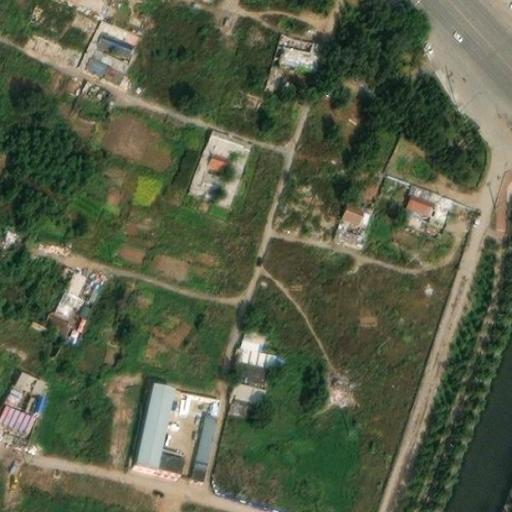building: (189, 125, 253, 202), (133, 380, 176, 468), (272, 33, 321, 71), (192, 407, 217, 473), (86, 50, 125, 77), (98, 28, 133, 54), (158, 445, 186, 472), (239, 342, 276, 361), (64, 262, 88, 290), (405, 188, 433, 211), (237, 357, 267, 377), (60, 283, 86, 303), (4, 378, 24, 403), (16, 364, 37, 385), (342, 198, 362, 220), (235, 374, 255, 395), (227, 393, 250, 411), (31, 369, 50, 389), (55, 293, 74, 311), (34, 388, 47, 409), (241, 334, 262, 345)
